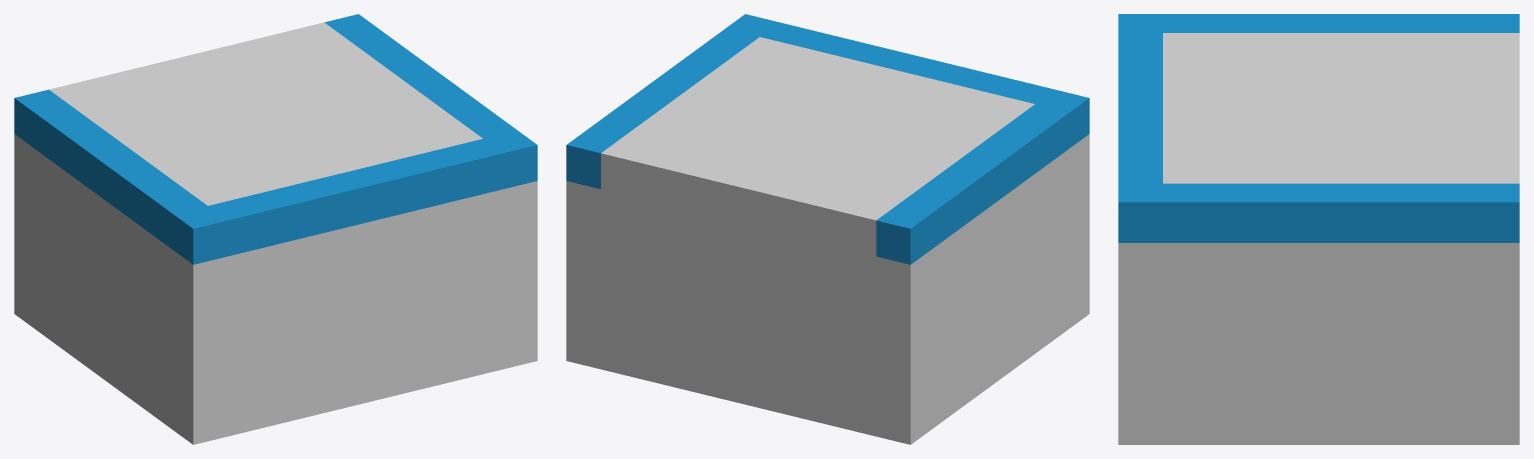
File: BlockTrack.fbx
3 views of the same model, side by side, from view 1: azimuth 30°, elevation 25°; view 2: azimuth 150°, elevation 25°; view 3: azimuth 270°, elevation 25° (orthographic). The views are drawn at different scales.
Visible parts, largest first — view 1: Matrix_19; view 2: Matrix_19; view 3: Matrix_19.
Boxes of the visible parts, x1,y1,x2,y2 form: Matrix_19: (14, 14, 537, 444); Matrix_19: (566, 14, 1089, 444); Matrix_19: (1118, 14, 1519, 444).
Bounding box in the file's own units: 10 × 6 × 9.
